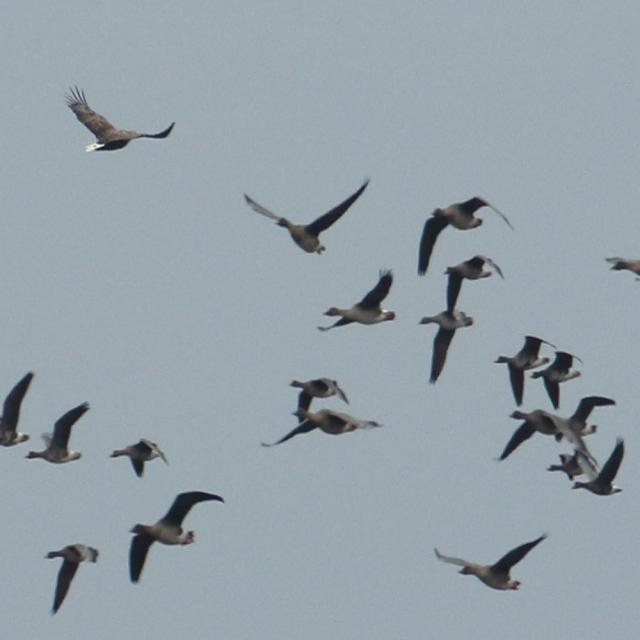bird: (416, 255, 507, 389), (237, 180, 376, 258), (489, 390, 620, 463), (126, 494, 228, 586), (266, 381, 387, 451), (413, 198, 516, 278), (65, 89, 177, 157), (435, 535, 551, 594), (318, 269, 398, 333), (494, 334, 552, 417), (24, 402, 92, 468), (44, 544, 102, 619), (536, 339, 588, 407), (1, 373, 34, 448), (112, 438, 168, 482)
